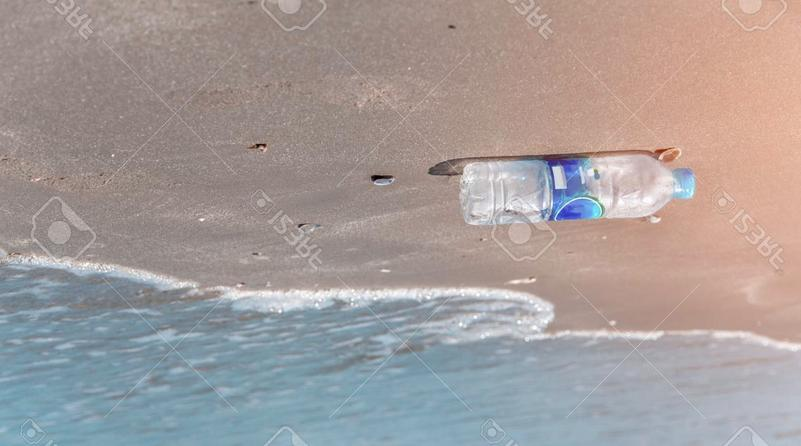Plastic: (457, 136, 698, 232)
